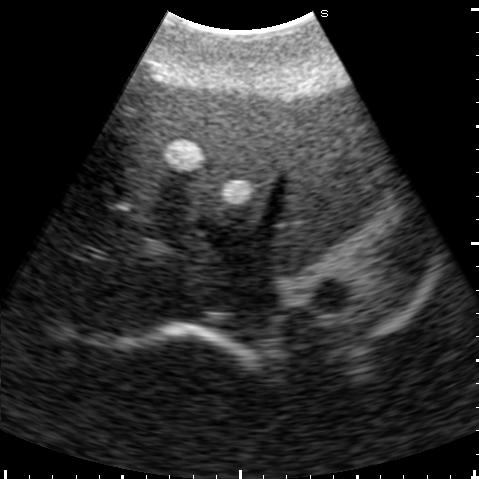S2: (272, 102, 381, 272)
S4: (113, 68, 302, 234)
S7: (58, 269, 176, 336)
S8: (77, 164, 223, 288)
Tumor: (165, 140, 204, 171), (220, 181, 250, 206)
